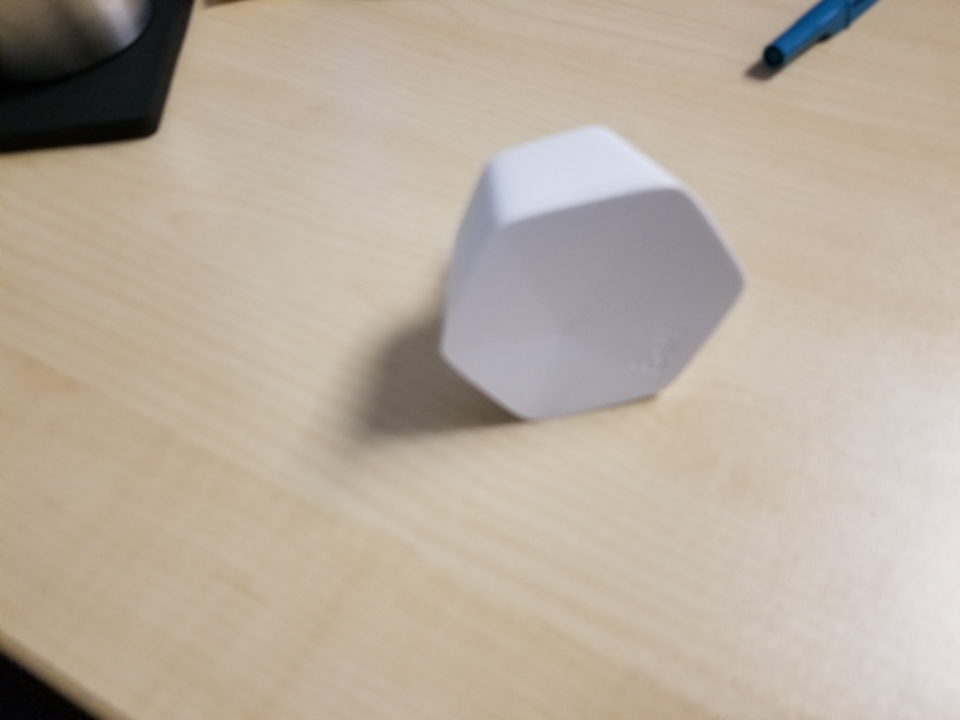pod: (425, 120, 753, 427)
